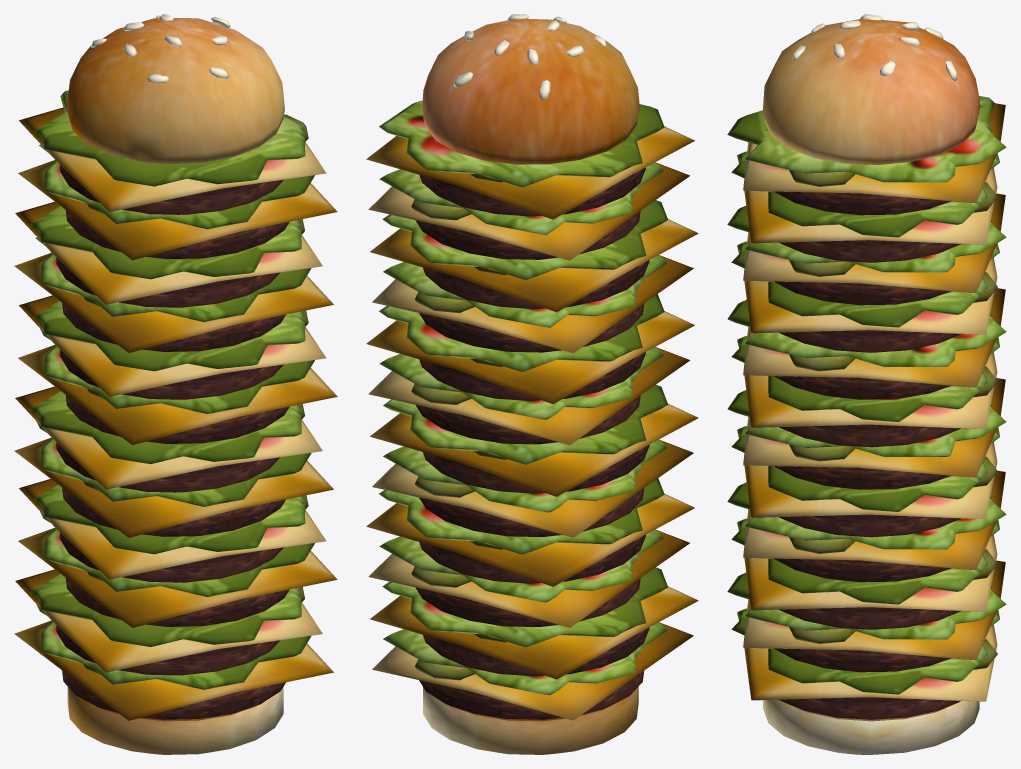
The model's file is tallburger.fbx.
3 renders of one model, left to right at view 1: azimuth 30°, elevation 25°; view 2: azimuth 150°, elevation 25°; view 3: azimuth 270°, elevation 25°, orthographic.
Parts seen in each view (by area): view 1: burger; view 2: burger; view 3: burger.
Boxes of the visible parts, x1,y1,x2,y2 form: burger: [14, 14, 337, 754]; burger: [366, 14, 698, 754]; burger: [727, 14, 1006, 754].
Size of the model in its own units: 3.65 by 9.54 by 3.5.
1 material, 1 textured.
